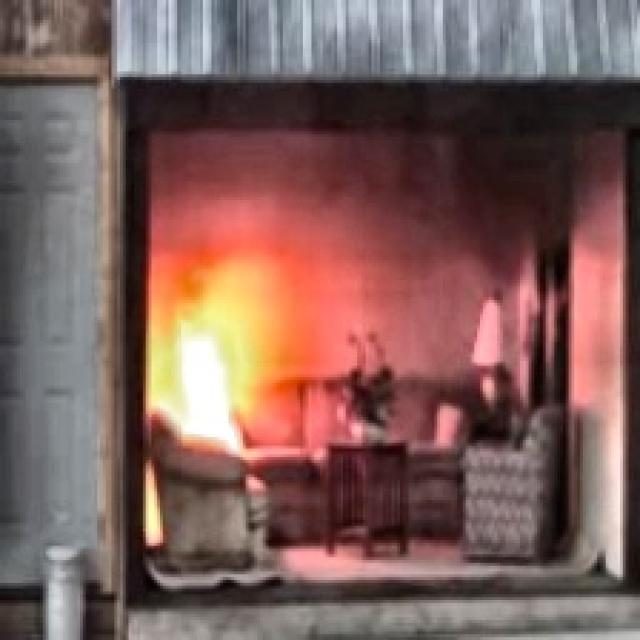fire: (143, 264, 277, 436)
